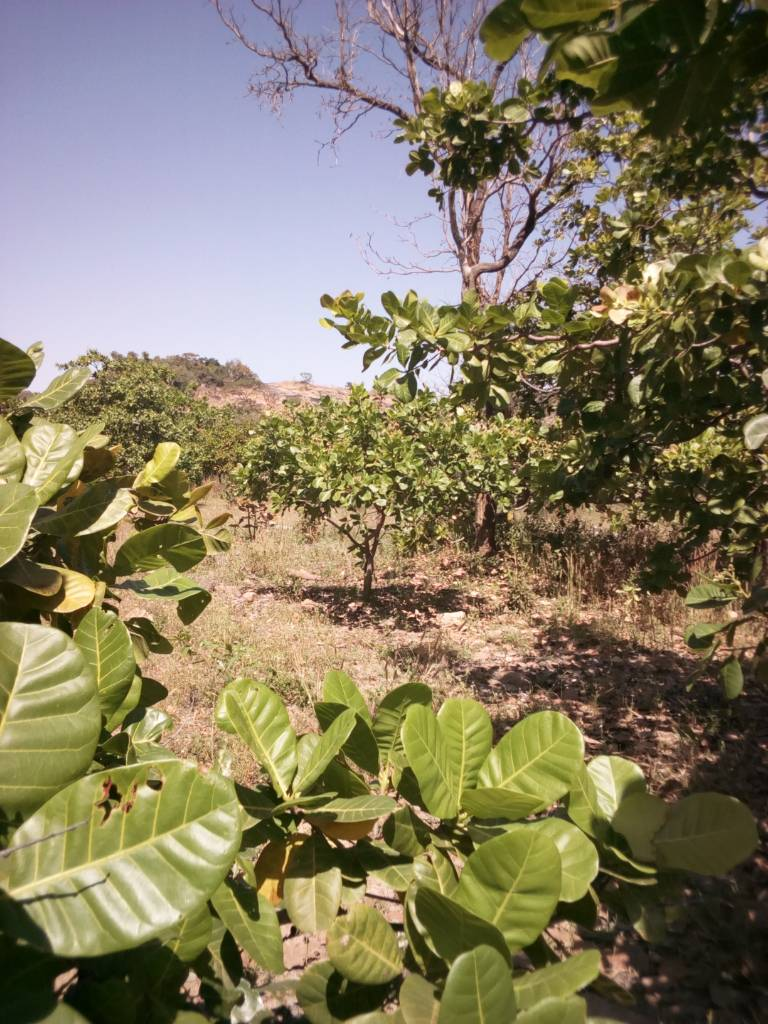Anoplonemis curvipes: (3, 724, 244, 966)
